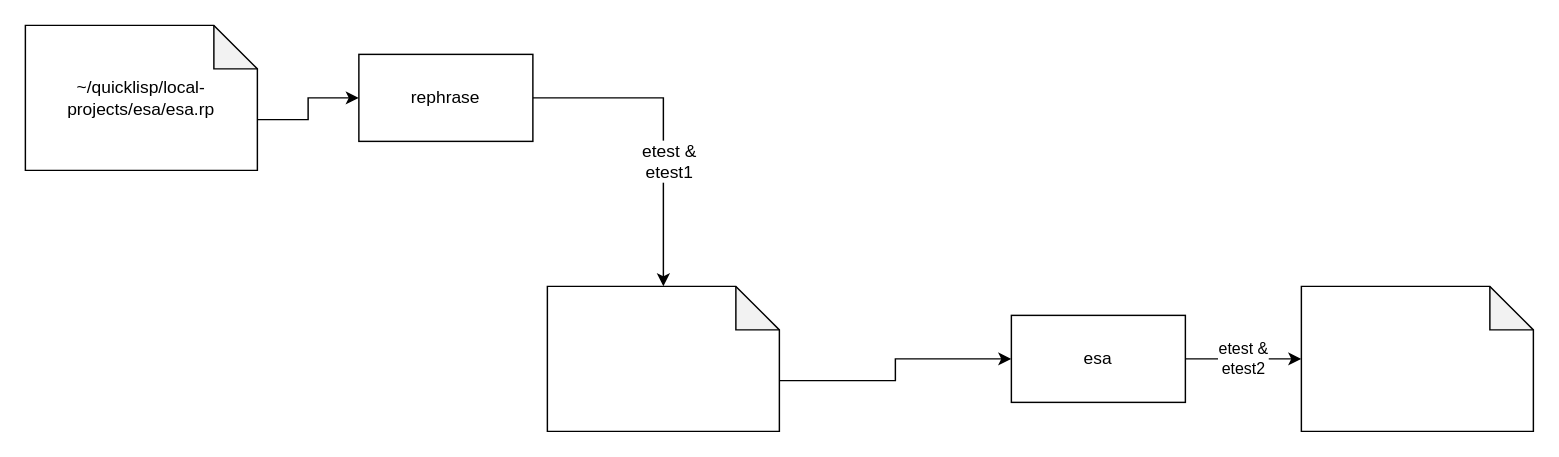
Image size: 1559x457. Some labels were removed from this diagram. The shapes that lost their labels are listed below. From the top down, each one's centre as x and y in pixels, then its label:
point 662,358: ~/quicklisp/local-projects/lisp/esa-dsl.lisp
point 1416,358: output lisp code for loader and runner
